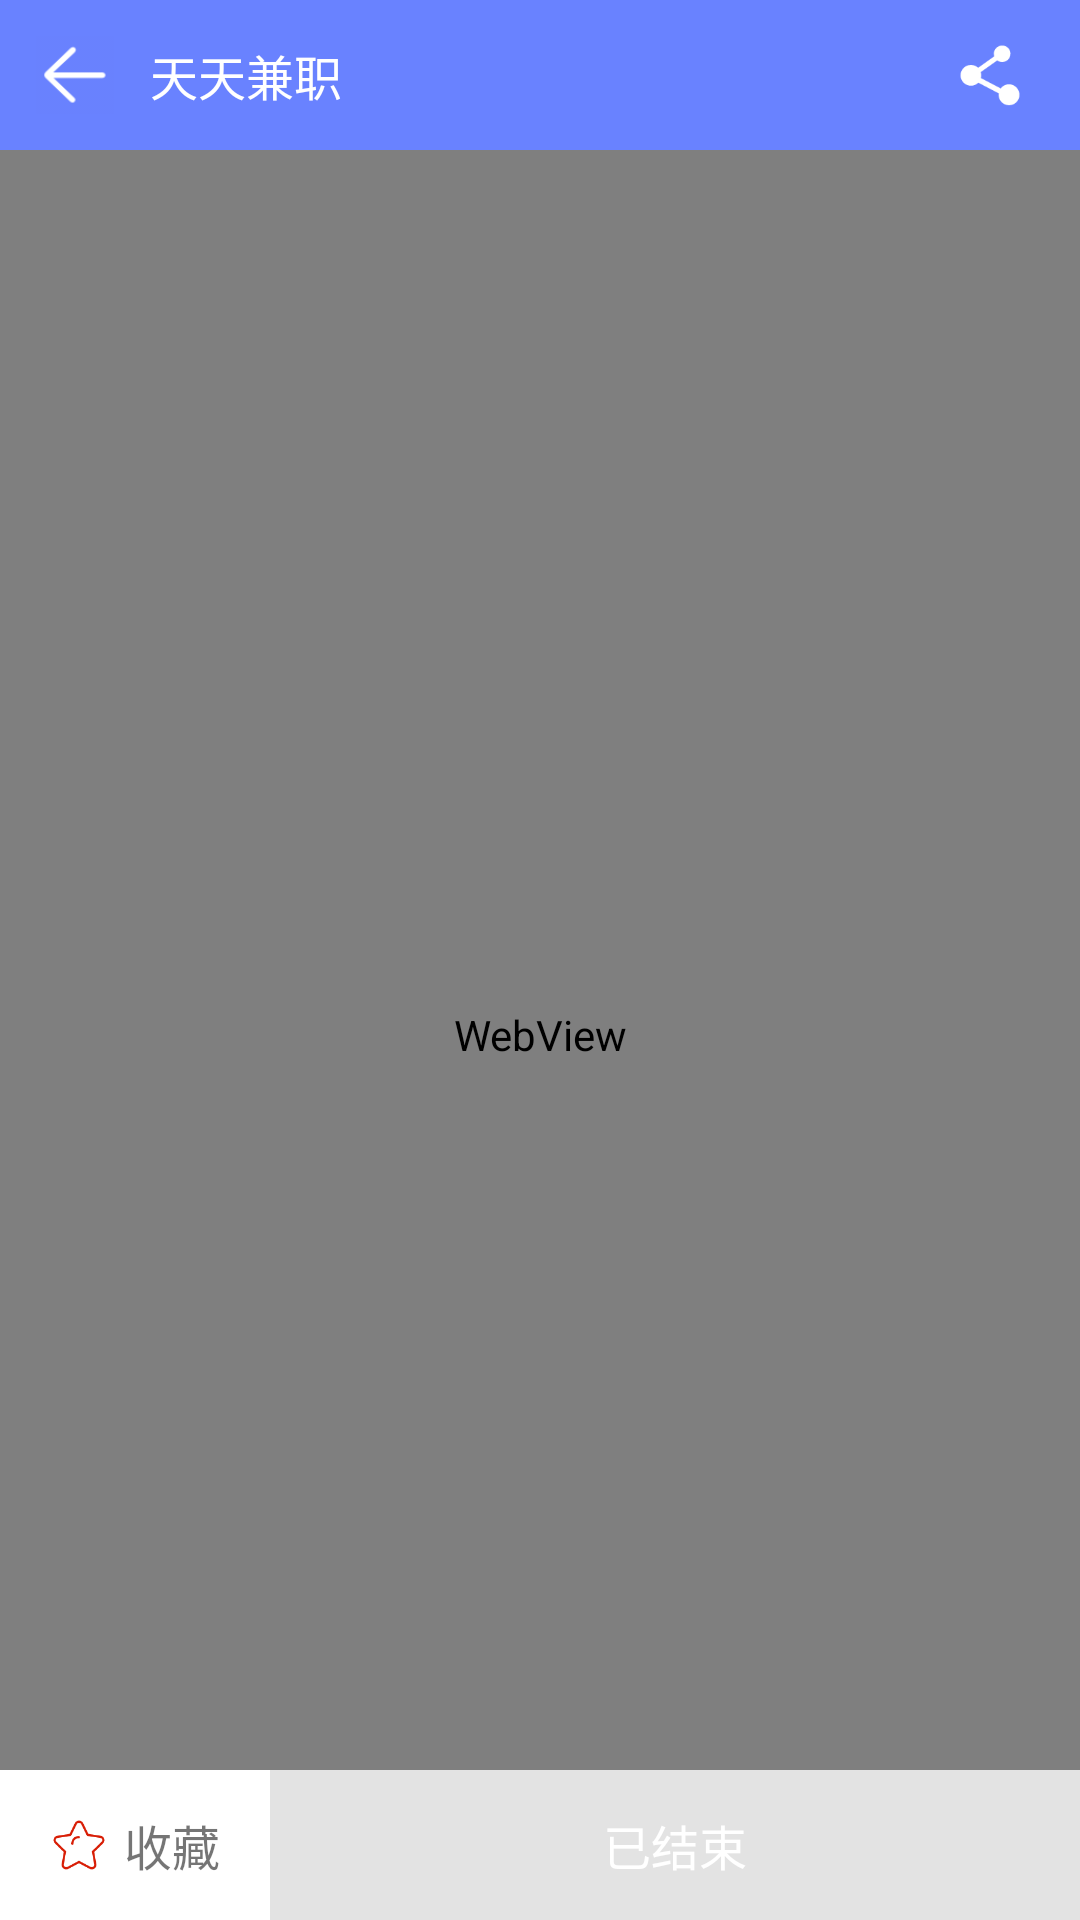

Icons on this 1080 × 1920 Android screen, each with its box as bbox(x1, y1, x2, y2):
back: bbox(44, 47, 106, 103)
sharing: bbox(960, 45, 1020, 105)
